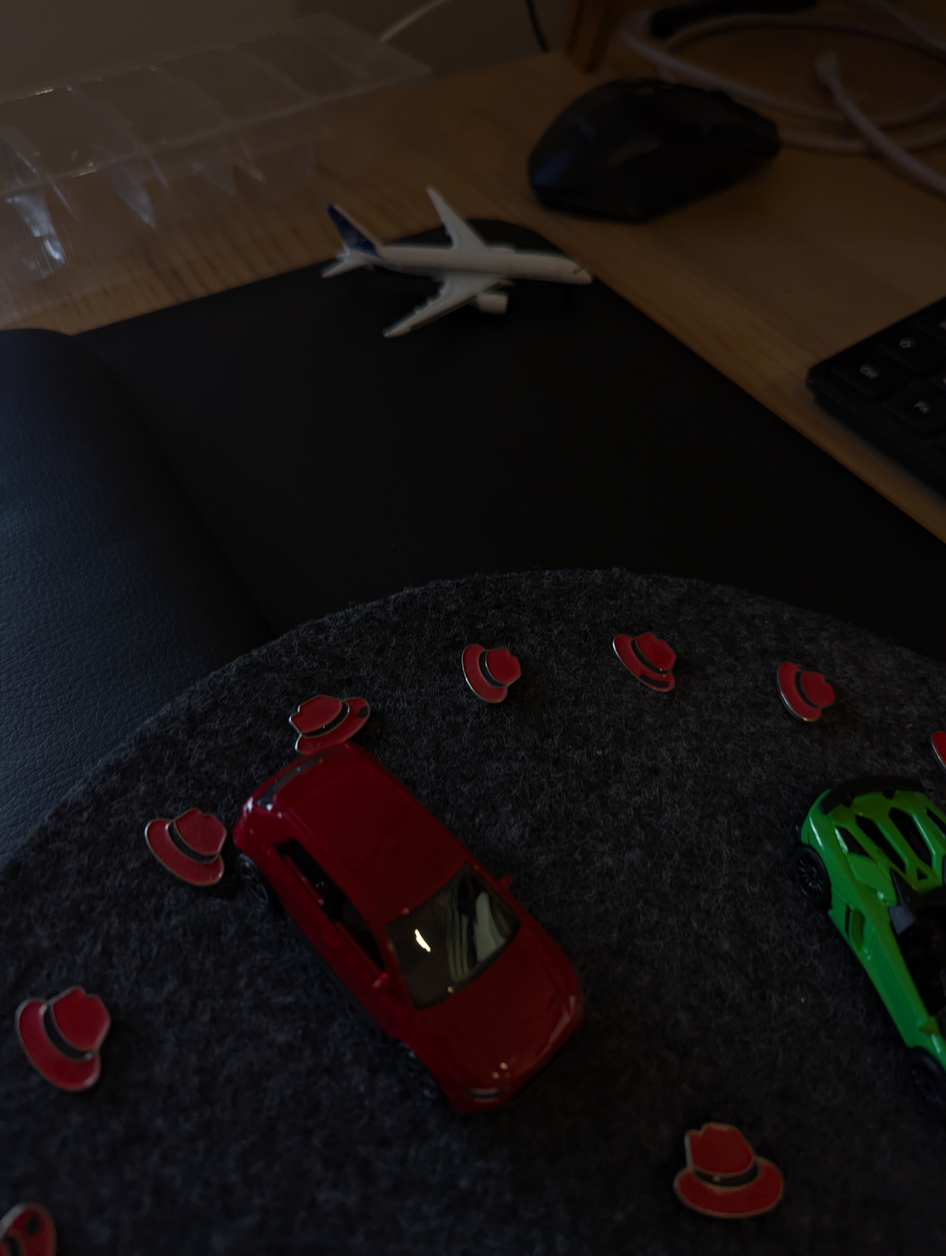Airplane: (302, 166, 624, 355)
Car: (207, 721, 626, 1127), (782, 747, 946, 1077)
Red-Hat: (652, 1100, 823, 1246), (1, 975, 137, 1100), (119, 798, 250, 893), (269, 679, 394, 770), (598, 625, 698, 711), (442, 626, 533, 713), (769, 645, 856, 726)
Scratch: (635, 662, 676, 699), (346, 695, 379, 727)
